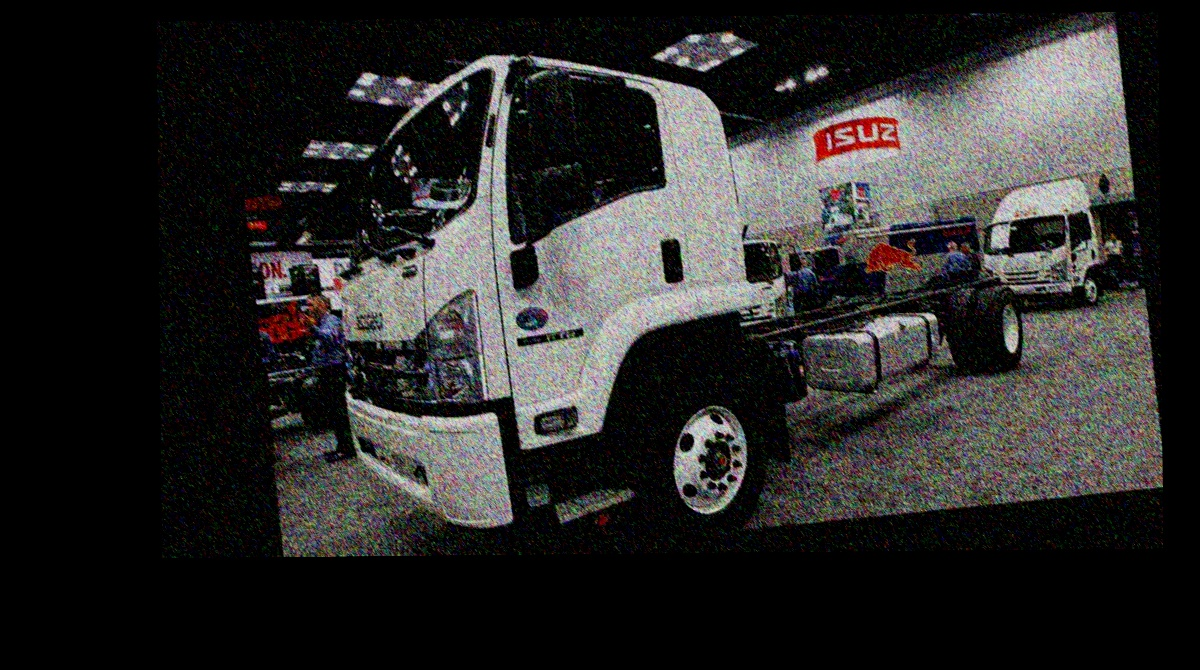truck: (310, 13, 1040, 557)
